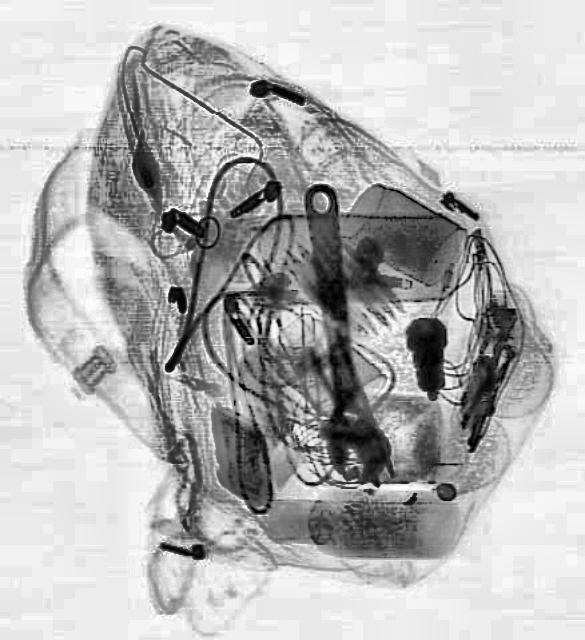Wrench: (288, 178, 392, 482)
